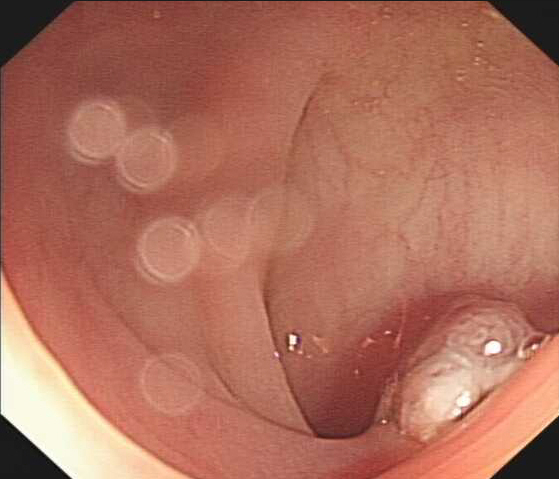others: (370, 293, 540, 444)
